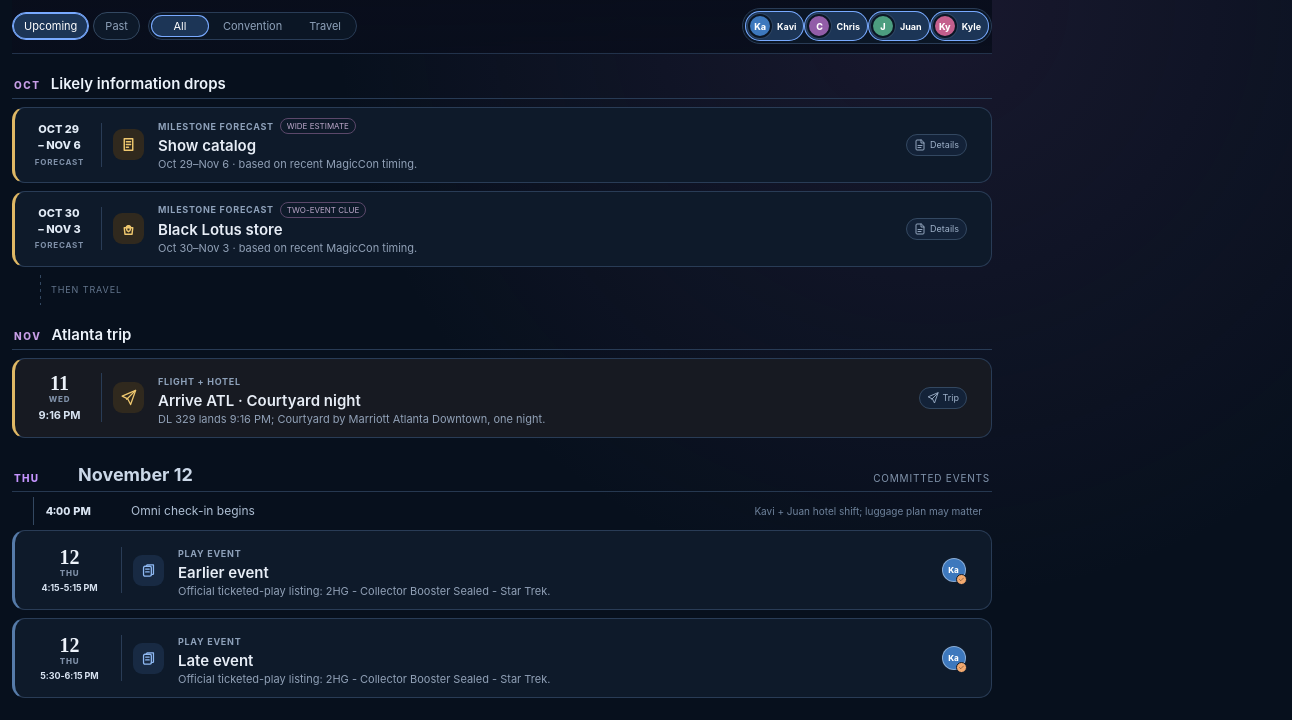
Scenario: Calendar display and inspector regression › does not stack a forecast over an event and clears it on Travel
Click the button "Earlier event". click: x=75, y=570
box: [12, 530, 992, 610]
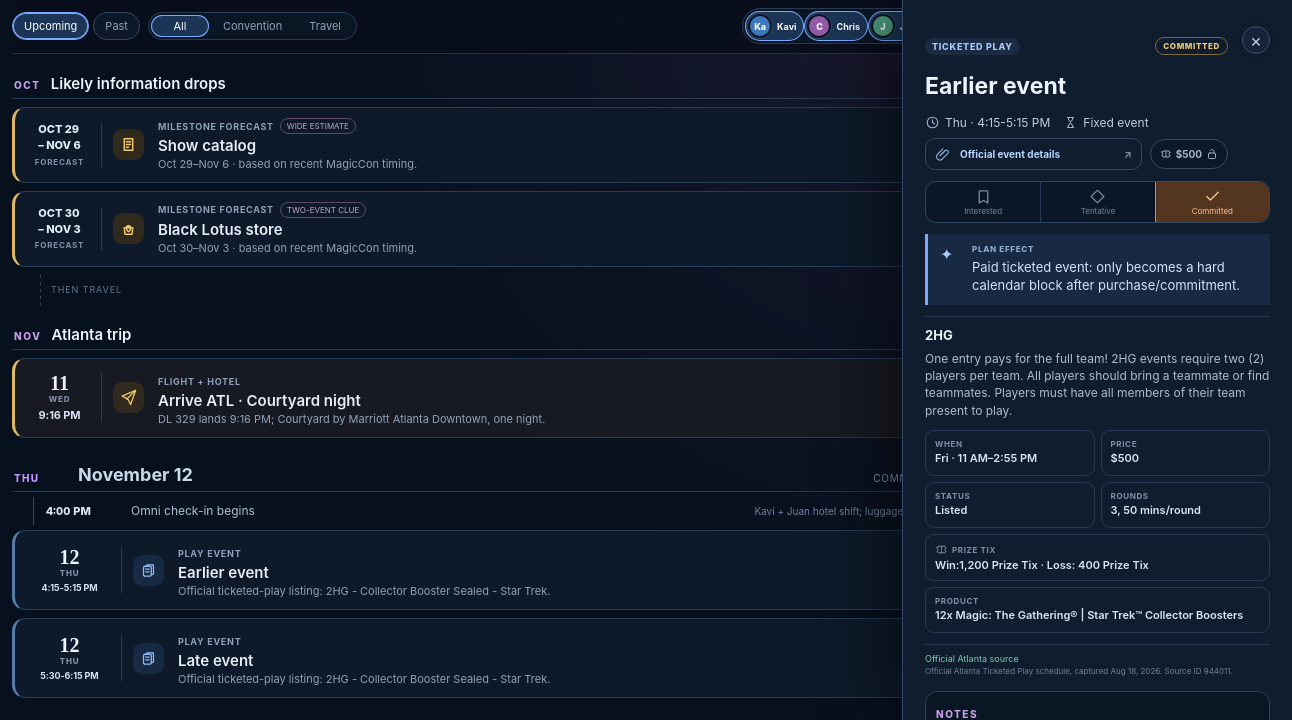
Click the button that starts with "OCT 29". click: x=65, y=145
box: [12, 107, 992, 183]
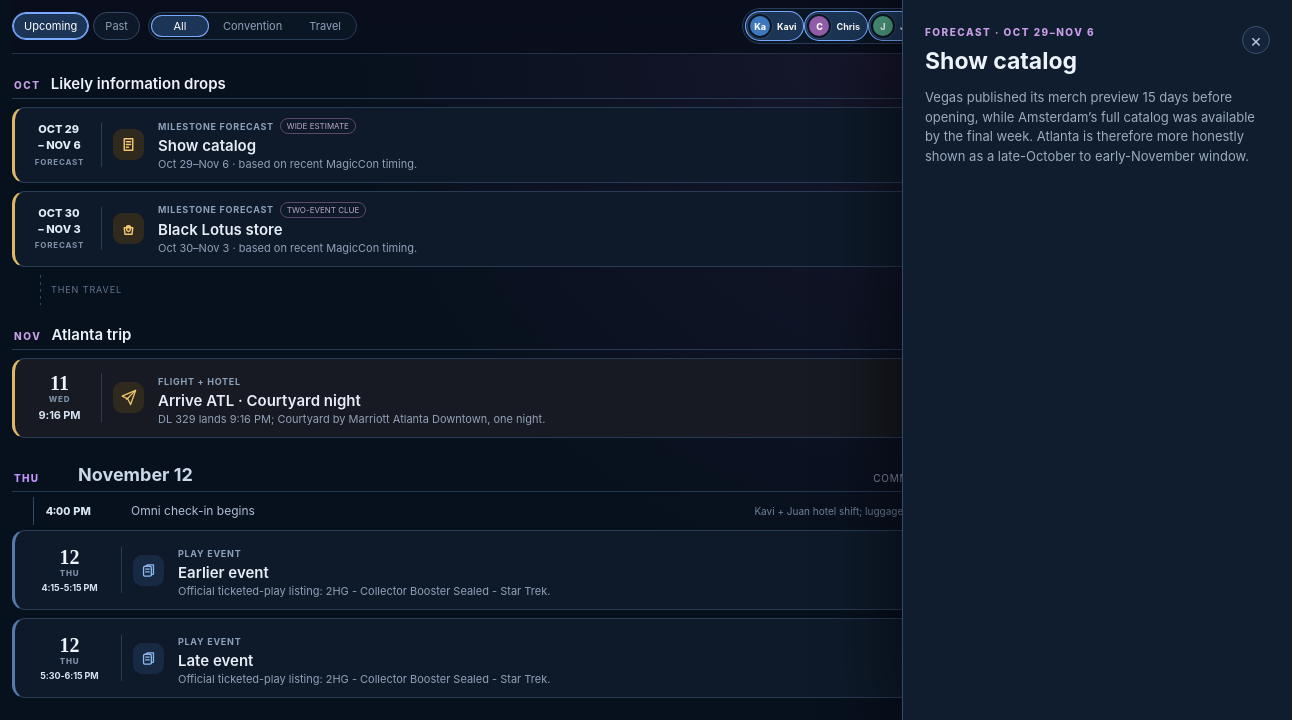
Click the button "Travel". click: x=325, y=26
box: [296, 15, 354, 37]
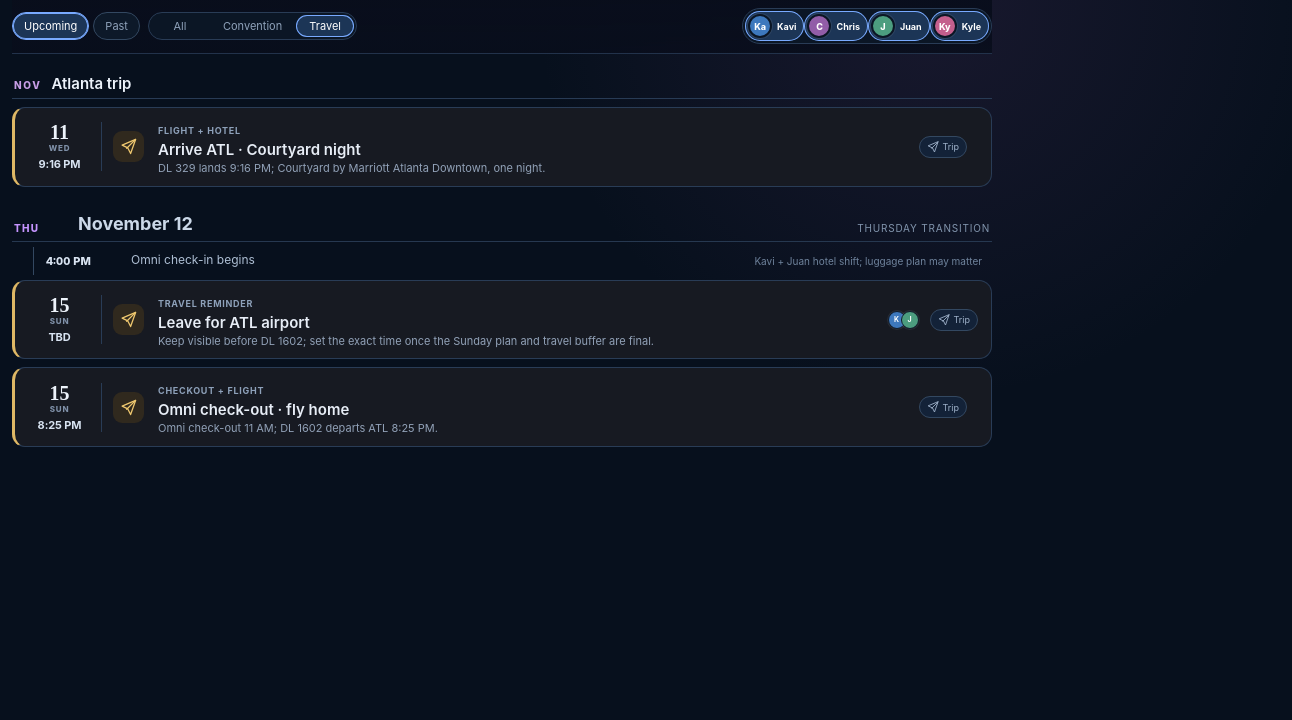
Check: the button with class "milestone-row" is gone
Check: the element with class "calendar-detail-sheet" is gone
Check: the text "Likely information drops" is gone
